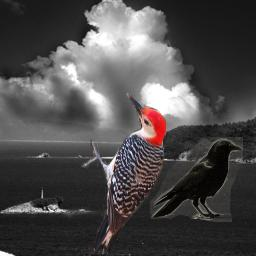Crow: (150, 137, 243, 222)
Woodpecker: (80, 92, 166, 254)
